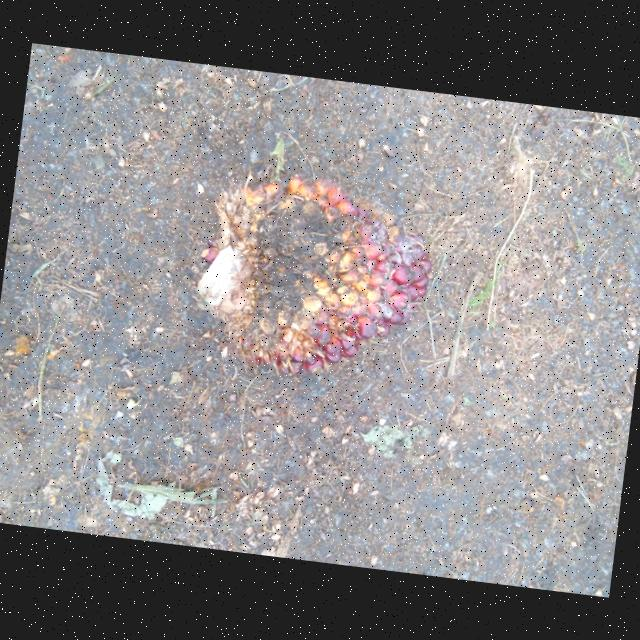Ripe: (210, 173, 437, 372)
